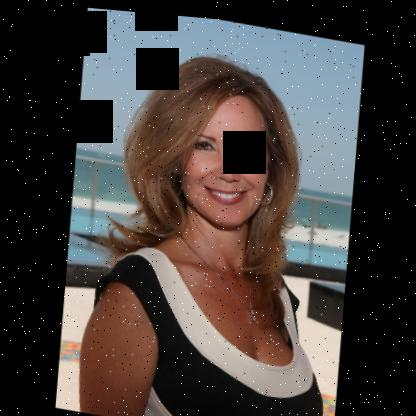Female: (167, 78, 275, 233)
